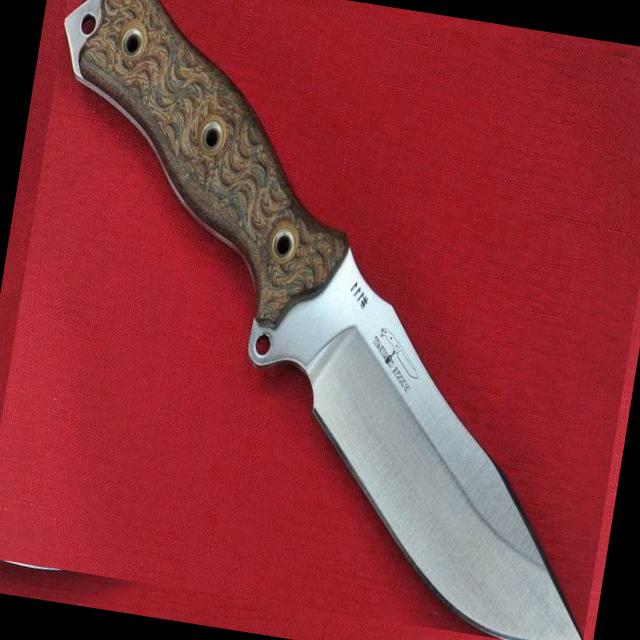Knife: (65, 0, 582, 640)
